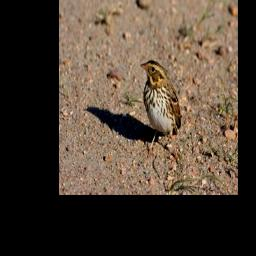Sparrow: (138, 57, 183, 165)
